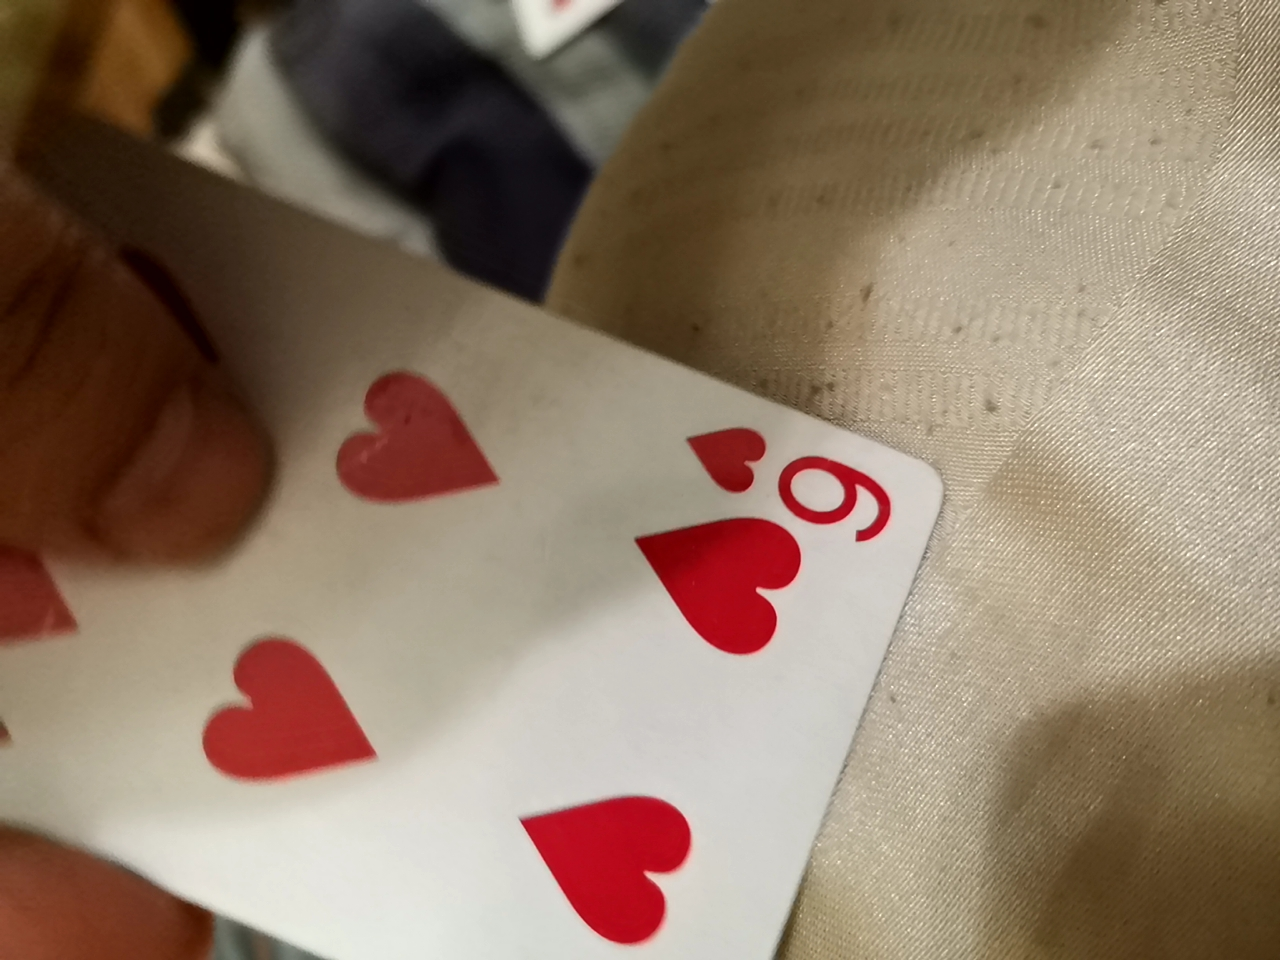hx 6: (6, 124, 973, 951)
